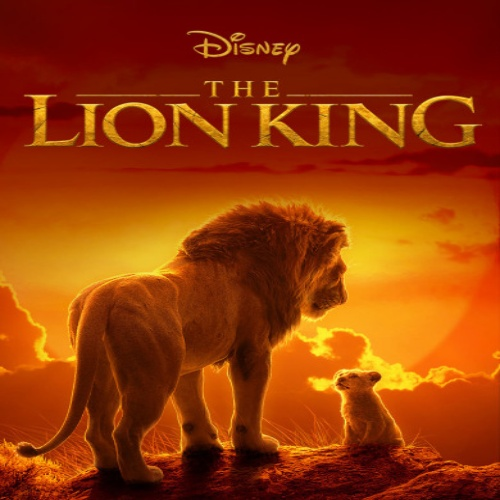lion: (15, 77, 427, 482)
